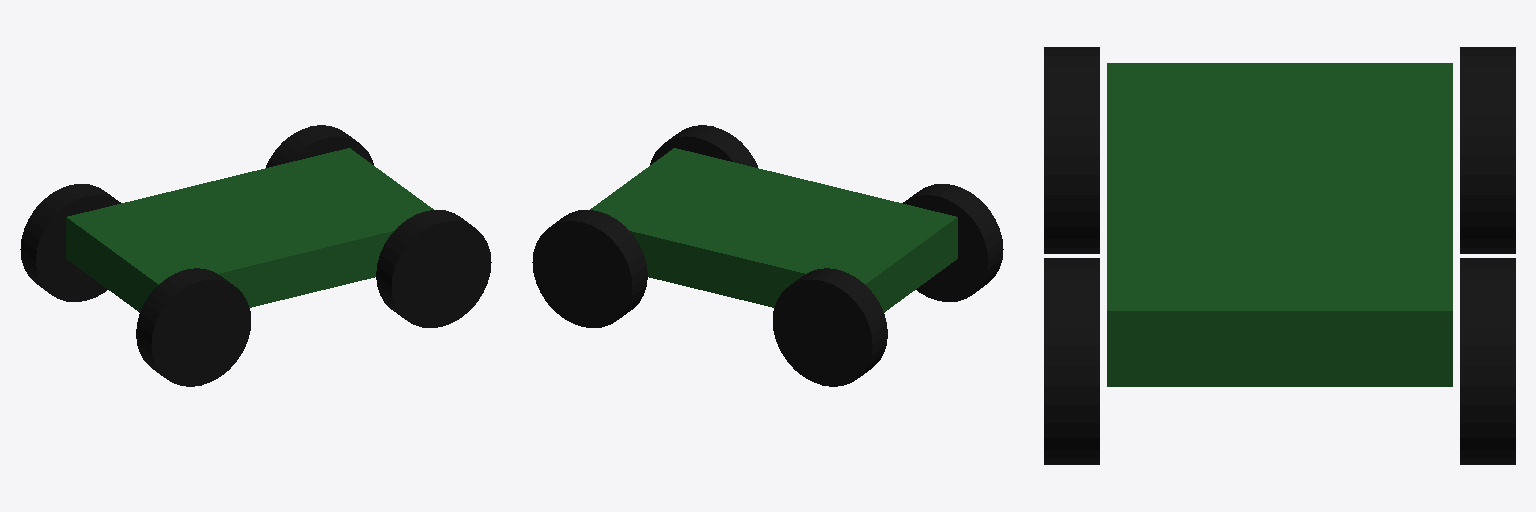
robot.urdf — nomad_vehicle:
<?xml version='1.0' encoding='utf-8'?>
<robot name="nomad_vehicle">
  <!--Generated from the same provisional geometry as models/nomad_vehicle/model.sdf.-->
  <link name="base_link">
    <inertial>
      <origin xyz="0 0 0.2" rpy="0 0 0" />
      <mass value="30" />
      <inertia ixx="0.661" iyy="1.84225" izz="2.43125" ixy="0" ixz="0" iyz="0" />
    </inertial>
    <visual>
      <origin xyz="0 0 0.2" rpy="0 0 0" />
      <geometry>
        <box size="0.85 0.5 0.12" />
      </geometry>
      <material name="base_link_material">
        <color rgba="0.15 0.38 0.18 1" />
      </material>
    </visual>
    <collision>
      <origin xyz="0 0 0.2" rpy="0 0 0" />
      <geometry>
        <box size="0.85 0.5 0.12" />
      </geometry>
    </collision>
  </link>
  <link name="front_left_wheel">
    <inertial>
      <origin xyz="0 0 0" rpy="0 0 0" />
      <mass value="1" />
      <inertia ixx="0.00615833333333333" iyy="0.01125" izz="0.00615833333333333" ixy="0" ixz="0" iyz="0" />
    </inertial>
    <visual>
      <origin xyz="0 0 0" rpy="1.5707963267949 0 0" />
      <geometry>
        <cylinder radius="0.15" length="0.08" />
      </geometry>
      <material name="front_left_wheel_material">
        <color rgba="0.12 0.12 0.12 1" />
      </material>
    </visual>
    <collision>
      <origin xyz="0 0 0" rpy="1.5707963267949 0 0" />
      <geometry>
        <cylinder radius="0.15" length="0.08" />
      </geometry>
    </collision>
  </link>
  <link name="front_right_wheel">
    <inertial>
      <origin xyz="0 0 0" rpy="0 0 0" />
      <mass value="1" />
      <inertia ixx="0.00615833333333333" iyy="0.01125" izz="0.00615833333333333" ixy="0" ixz="0" iyz="0" />
    </inertial>
    <visual>
      <origin xyz="0 0 0" rpy="1.5707963267949 0 0" />
      <geometry>
        <cylinder radius="0.15" length="0.08" />
      </geometry>
      <material name="front_right_wheel_material">
        <color rgba="0.12 0.12 0.12 1" />
      </material>
    </visual>
    <collision>
      <origin xyz="0 0 0" rpy="1.5707963267949 0 0" />
      <geometry>
        <cylinder radius="0.15" length="0.08" />
      </geometry>
    </collision>
  </link>
  <link name="rear_left_steering_link">
    <inertial>
      <origin xyz="0 0 0" rpy="0 0 0" />
      <mass value="0.3" />
      <inertia ixx="8.6875e-05" iyy="8.6875e-05" izz="9.375e-05" ixy="0" ixz="0" iyz="0" />
    </inertial>
    <visual>
      <origin xyz="0 0 0" rpy="0 0 0" />
      <geometry>
        <cylinder radius="0.025" length="0.04" />
      </geometry>
      <material name="rear_left_steering_link_material">
        <color rgba="0.12 0.12 0.12 1" />
      </material>
    </visual>
  </link>
  <link name="rear_left_wheel">
    <inertial>
      <origin xyz="0 0 0" rpy="0 0 0" />
      <mass value="1" />
      <inertia ixx="0.00615833333333333" iyy="0.01125" izz="0.00615833333333333" ixy="0" ixz="0" iyz="0" />
    </inertial>
    <visual>
      <origin xyz="0 0 0" rpy="1.5707963267949 0 0" />
      <geometry>
        <cylinder radius="0.15" length="0.08" />
      </geometry>
      <material name="rear_left_wheel_material">
        <color rgba="0.12 0.12 0.12 1" />
      </material>
    </visual>
    <collision>
      <origin xyz="0 0 0" rpy="1.5707963267949 0 0" />
      <geometry>
        <cylinder radius="0.15" length="0.08" />
      </geometry>
    </collision>
  </link>
  <link name="rear_right_steering_link">
    <inertial>
      <origin xyz="0 0 0" rpy="0 0 0" />
      <mass value="0.3" />
      <inertia ixx="8.6875e-05" iyy="8.6875e-05" izz="9.375e-05" ixy="0" ixz="0" iyz="0" />
    </inertial>
    <visual>
      <origin xyz="0 0 0" rpy="0 0 0" />
      <geometry>
        <cylinder radius="0.025" length="0.04" />
      </geometry>
      <material name="rear_right_steering_link_material">
        <color rgba="0.12 0.12 0.12 1" />
      </material>
    </visual>
  </link>
  <link name="rear_right_wheel">
    <inertial>
      <origin xyz="0 0 0" rpy="0 0 0" />
      <mass value="1" />
      <inertia ixx="0.00615833333333333" iyy="0.01125" izz="0.00615833333333333" ixy="0" ixz="0" iyz="0" />
    </inertial>
    <visual>
      <origin xyz="0 0 0" rpy="1.5707963267949 0 0" />
      <geometry>
        <cylinder radius="0.15" length="0.08" />
      </geometry>
      <material name="rear_right_wheel_material">
        <color rgba="0.12 0.12 0.12 1" />
      </material>
    </visual>
    <collision>
      <origin xyz="0 0 0" rpy="1.5707963267949 0 0" />
      <geometry>
        <cylinder radius="0.15" length="0.08" />
      </geometry>
    </collision>
  </link>
  <joint name="front_left_wheel_joint" type="continuous">
    <parent link="base_link" />
    <child link="front_left_wheel" />
    <origin xyz="0.36 0.3 0.15" rpy="0 0 0" />
    <axis xyz="0 1 0" />
    <limit effort="20" velocity="20" />
    <dynamics damping="0.02" friction="0" />
  </joint>
  <joint name="front_right_wheel_joint" type="continuous">
    <parent link="base_link" />
    <child link="front_right_wheel" />
    <origin xyz="0.36 -0.3 0.15" rpy="0 0 0" />
    <axis xyz="0 1 0" />
    <limit effort="20" velocity="20" />
    <dynamics damping="0.02" friction="0" />
  </joint>
  <joint name="rear_left_steering_joint" type="revolute">
    <parent link="base_link" />
    <child link="rear_left_steering_link" />
    <origin xyz="-0.36 0.3 0.15" rpy="0 0 0" />
    <axis xyz="0 0 1" />
    <limit effort="12" velocity="2" lower="-0.55" upper="0.55" />
    <dynamics damping="0.02" friction="0" />
  </joint>
  <joint name="rear_left_wheel_joint" type="continuous">
    <parent link="rear_left_steering_link" />
    <child link="rear_left_wheel" />
    <origin xyz="0 0 0" rpy="0 0 0" />
    <axis xyz="0 1 0" />
    <limit effort="20" velocity="20" />
    <dynamics damping="0.02" friction="0" />
  </joint>
  <joint name="rear_right_steering_joint" type="revolute">
    <parent link="base_link" />
    <child link="rear_right_steering_link" />
    <origin xyz="-0.36 -0.3 0.15" rpy="0 0 0" />
    <axis xyz="0 0 1" />
    <limit effort="12" velocity="2" lower="-0.55" upper="0.55" />
    <dynamics damping="0.02" friction="0" />
  </joint>
  <joint name="rear_right_wheel_joint" type="continuous">
    <parent link="rear_right_steering_link" />
    <child link="rear_right_wheel" />
    <origin xyz="0 0 0" rpy="0 0 0" />
    <axis xyz="0 1 0" />
    <limit effort="20" velocity="20" />
    <dynamics damping="0.02" friction="0" />
  </joint>
  <link name="oak_rgb_optical_frame" />
  <joint name="oak_rgb_optical_frame_joint" type="fixed">
    <parent link="base_link" />
    <child link="oak_rgb_optical_frame" />
    <origin xyz="0.46 0 0.29" rpy="-1.5707963267949 0 -1.5707963267949" />
  </joint>
  <link name="oak_depth_optical_frame" />
  <joint name="oak_depth_optical_frame_joint" type="fixed">
    <parent link="base_link" />
    <child link="oak_depth_optical_frame" />
    <origin xyz="0.46 0 0.29" rpy="-1.5707963267949 0 -1.5707963267949" />
  </joint>
  <link name="oak_left_optical_frame" />
  <joint name="oak_left_optical_frame_joint" type="fixed">
    <parent link="base_link" />
    <child link="oak_left_optical_frame" />
    <origin xyz="0.46 0.06 0.29" rpy="-1.5707963267949 0 -1.5707963267949" />
  </joint>
  <link name="oak_right_optical_frame" />
  <joint name="oak_right_optical_frame_joint" type="fixed">
    <parent link="base_link" />
    <child link="oak_right_optical_frame" />
    <origin xyz="0.46 -0.06 0.29" rpy="-1.5707963267949 0 -1.5707963267949" />
  </joint>
  <link name="scan" />
  <joint name="scan_joint" type="fixed">
    <parent link="base_link" />
    <child link="scan" />
    <origin xyz="0.15 0 0.38" rpy="0 0 0" />
  </joint>
  <link name="oak_imu_frame" />
  <joint name="oak_imu_frame_joint" type="fixed">
    <parent link="base_link" />
    <child link="oak_imu_frame" />
    <origin xyz="0.46 0 0.29" rpy="0 0 0" />
  </joint>
</robot>

--- What the picture shows (computed from the rendered views, not written in the file) ---
Views: 3 orthographic renders of the robot side by side, from view 1: azimuth 30°, elevation 25°; view 2: azimuth 150°, elevation 25°; view 3: azimuth 270°, elevation 25°.
Robot: nomad_vehicle — 13 links, 12 joints (2 revolute, 4 continuous, 6 fixed); root link base_link; default pose: all joints at 0.
Visible links, largest first — view 1: base_link, front_right_wheel, rear_right_wheel, rear_left_wheel, front_left_wheel; view 2: base_link, front_left_wheel, rear_left_wheel, rear_right_wheel, front_right_wheel; view 3: base_link, front_left_wheel, front_right_wheel, rear_left_wheel, rear_right_wheel.
Link boxes in pixels (x1,y1,x2,y2): base_link: [66, 148, 433, 312]; front_right_wheel: [376, 210, 491, 327]; rear_right_wheel: [136, 268, 250, 386]; rear_left_wheel: [20, 184, 120, 301]; front_left_wheel: [266, 125, 373, 167]; base_link: [590, 148, 957, 312]; front_left_wheel: [532, 210, 647, 327]; rear_left_wheel: [773, 268, 887, 386]; rear_right_wheel: [903, 184, 1003, 301]; front_right_wheel: [650, 125, 757, 167]; base_link: [1107, 63, 1452, 386]; front_left_wheel: [1460, 258, 1515, 464]; front_right_wheel: [1044, 258, 1099, 464]; rear_left_wheel: [1460, 47, 1515, 253]; rear_right_wheel: [1044, 47, 1099, 253].
Size in the robot's own frame: 1.02 by 0.68 by 0.3 metres.
Geometry: primitives only (box / cylinder / sphere), no mesh files.
